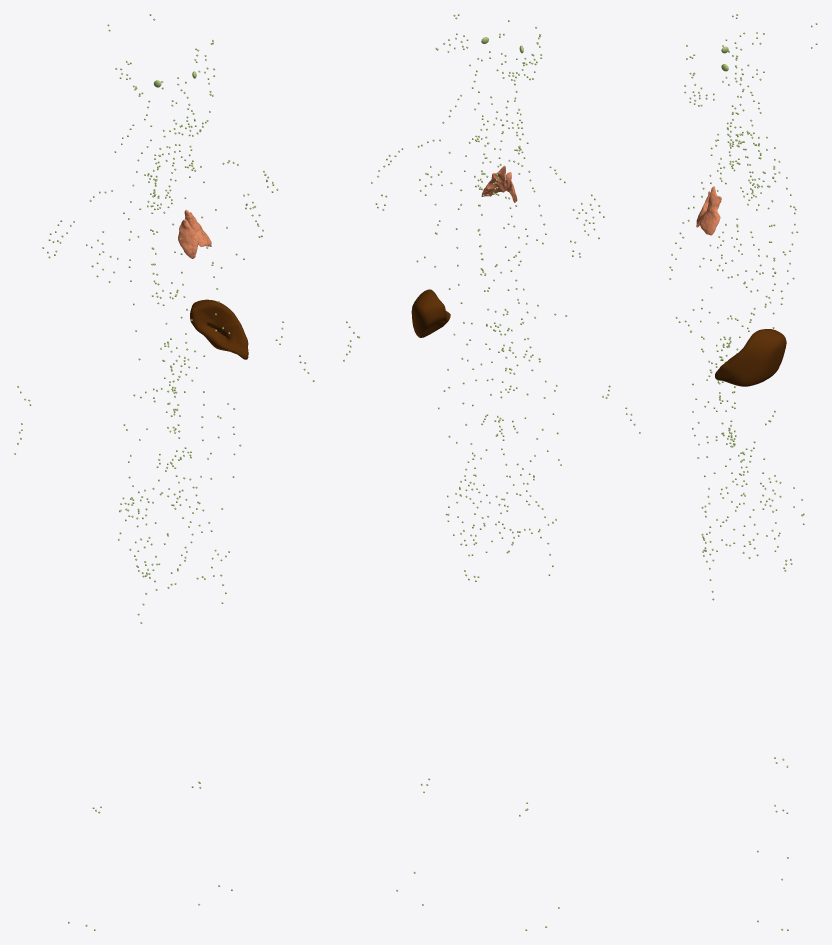
Rendered from z-anatomy-lymphoid.glb.
3 renders of one model, left to right at view 1: azimuth 30°, elevation 25°; view 2: azimuth 150°, elevation 25°; view 3: azimuth 270°, elevation 25°, orthographic.
Parts seen in each view (by area): view 1: Spleen.001; view 2: Spleen.001; view 3: Spleen.001, Left lobe of thymus.001.
Part boxes in pixels (x1,y1,x2,y2): Spleen.001: [190, 299, 248, 359]; Spleen.001: [411, 289, 450, 337]; Spleen.001: [715, 329, 786, 386]; Left lobe of thymus.001: [699, 186, 721, 235].
Bounding box in the file's own units: 0.4523 × 1.28 × 0.1963.
